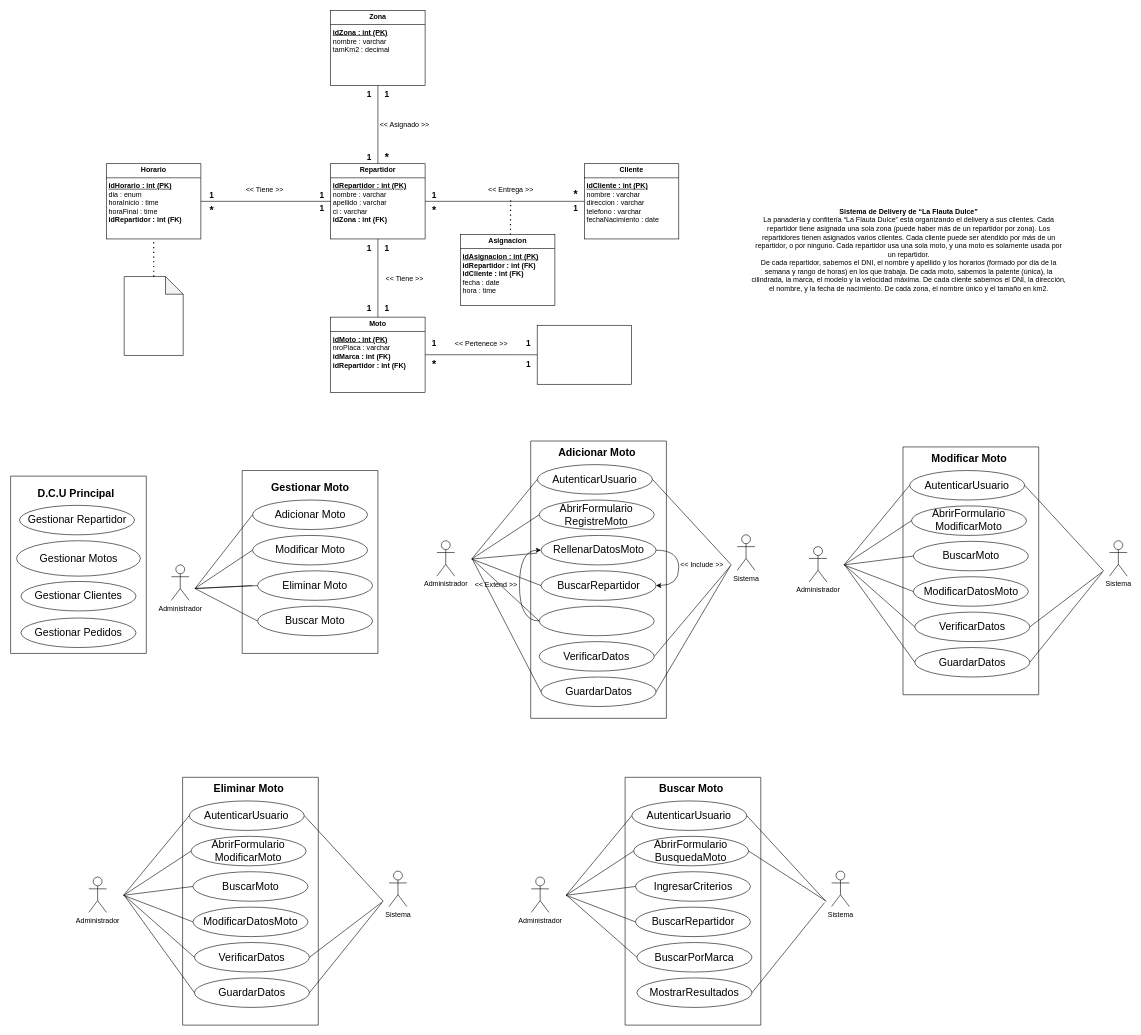
This 1141x1035 diagram has some shape labels left out. Each missing label, with the centre of its shape:
Dia: 1:Lunes 2:Martes 3:Miercoles 4:Jueves 5:Viernes 6:Sabado: point 153,315
Marca idMarca : int (PK) nombre : varchar: point 584,354
RegistraRepartidor: point 596,621
